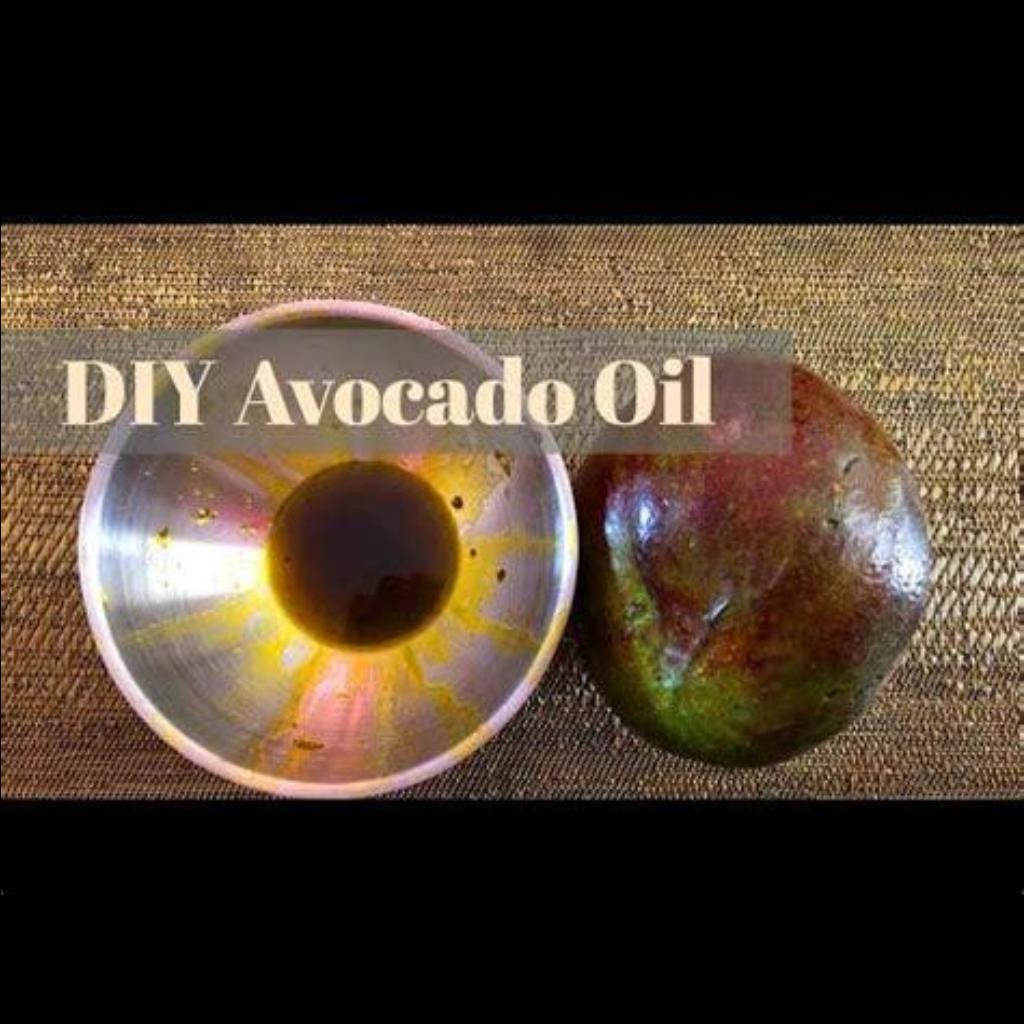antracnosis_fruto: (618, 317, 933, 751)
